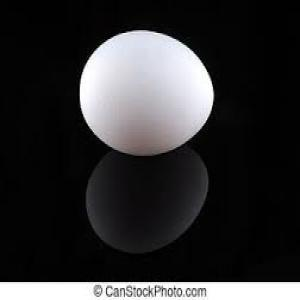Egg: (79, 30, 215, 158)
